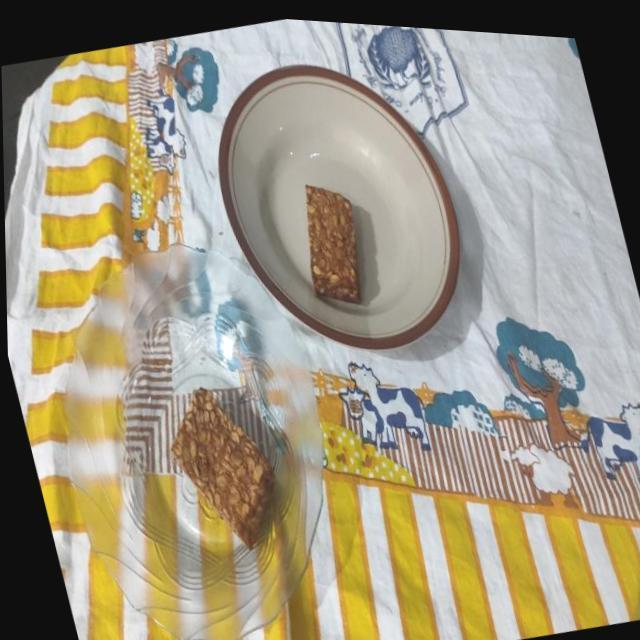tempe_goreng: (172, 387, 274, 548), (306, 185, 360, 302)
